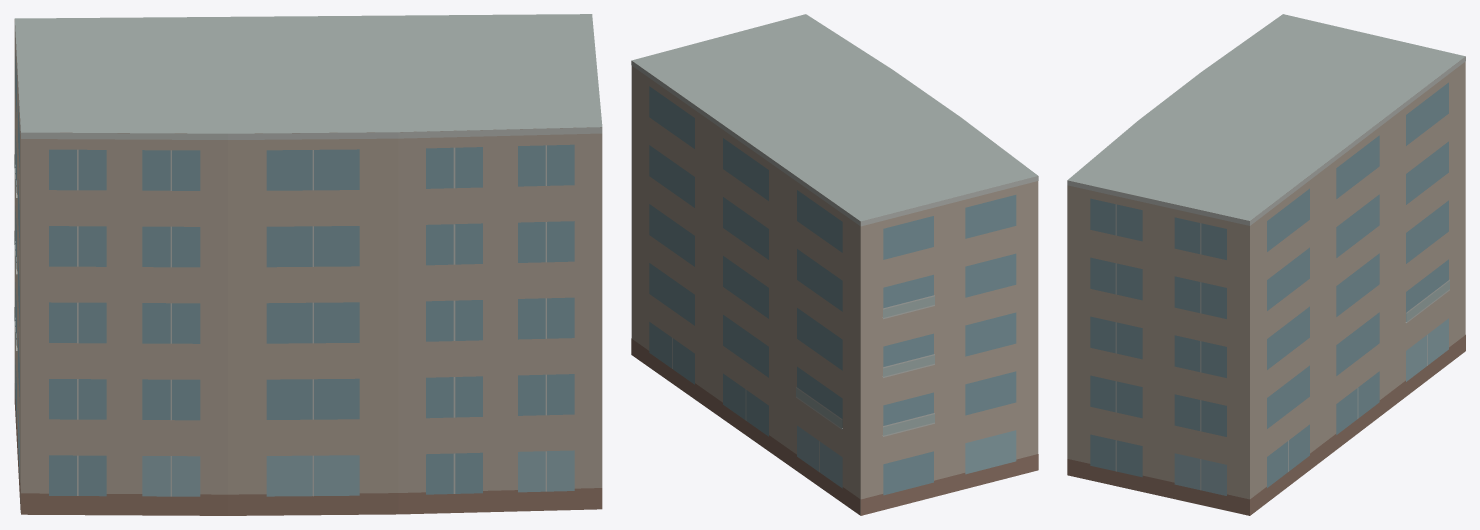
Rendered from survey-upis-32682611.glb.
3 renders of one model, left to right at view 1: azimuth 30°, elevation 25°; view 2: azimuth 150°, elevation 25°; view 3: azimuth 270°, elevation 25°, orthographic. The views are drawn at different scales.
Parts seen in each view (by area): view 1: survey-upis-32682611.tmp; view 2: survey-upis-32682611.tmp; view 3: survey-upis-32682611.tmp.
Boxes of the visible parts, x1,y1,x2,y2 form: survey-upis-32682611.tmp: [14, 14, 602, 515]; survey-upis-32682611.tmp: [631, 14, 1038, 515]; survey-upis-32682611.tmp: [1067, 14, 1465, 515].
Size of the model in its own units: 21.76 by 14.45 by 17.71.
